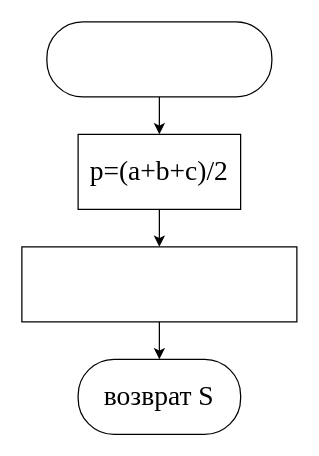
Image size: 319x456. Some labels were removed from this diagram. Here are the shapes that lost their labels. From the top down, the box of each, then its label:
(46, 21, 272, 97): TriangleArea(a,b,c)
(21, 246, 297, 322): S=(p(p-a)(p-b)(p-c)) 1/2
